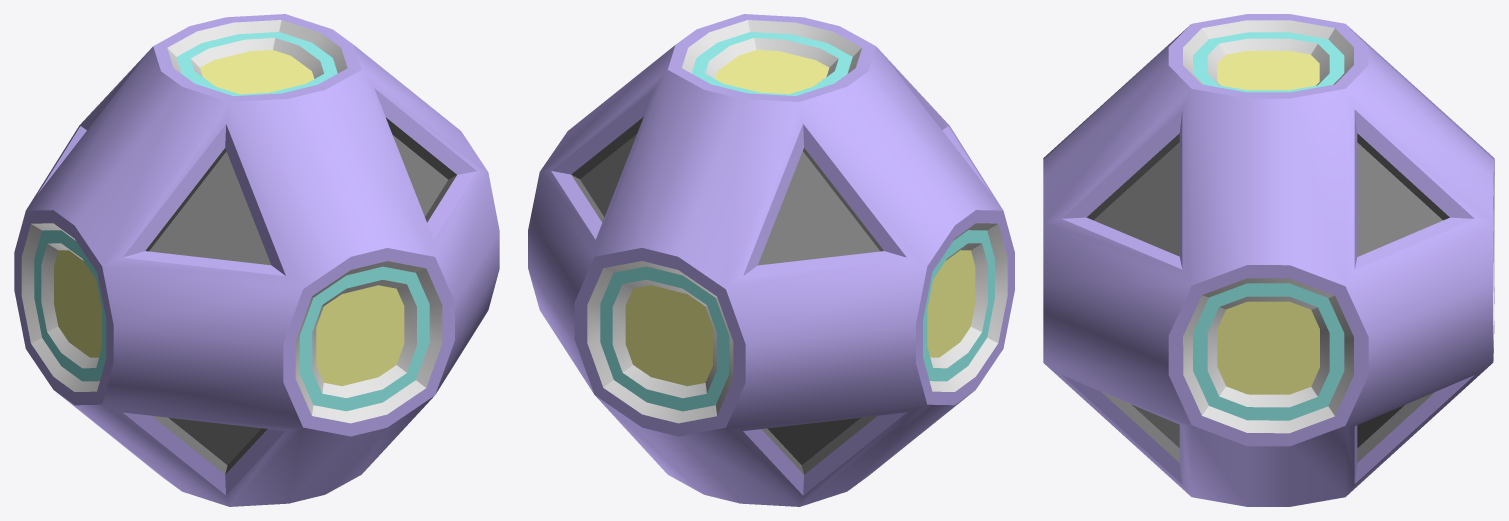
The model's file is EnergyCore.fbx.
3 renders of one model, left to right at view 1: azimuth 30°, elevation 25°; view 2: azimuth 150°, elevation 25°; view 3: azimuth 270°, elevation 25°, orthographic.
Visible parts, largest first — view 1: Core; view 2: Core; view 3: Core.
Boxes of the visible parts, box(x1,y1,x2,y2) form: Core: box(14, 14, 499, 506); Core: box(528, 14, 1014, 506); Core: box(1043, 14, 1494, 506).
Bounding box in the file's own units: 100 × 100 × 100.
